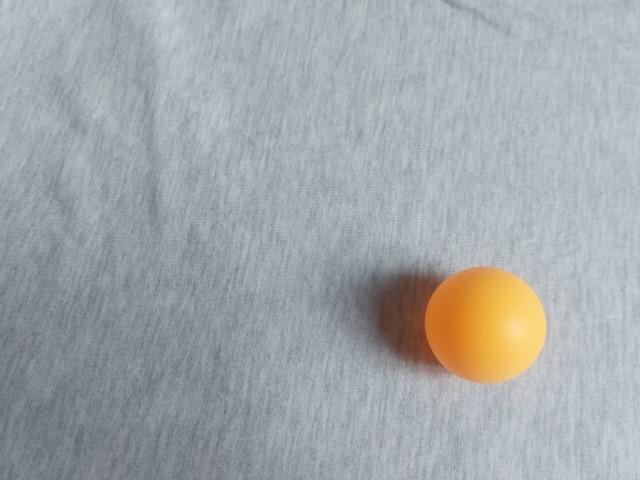oball: (87, 90, 219, 219)
